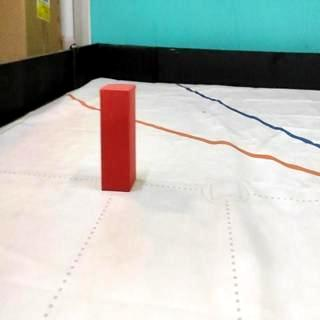redbox: (100, 81, 135, 192)
